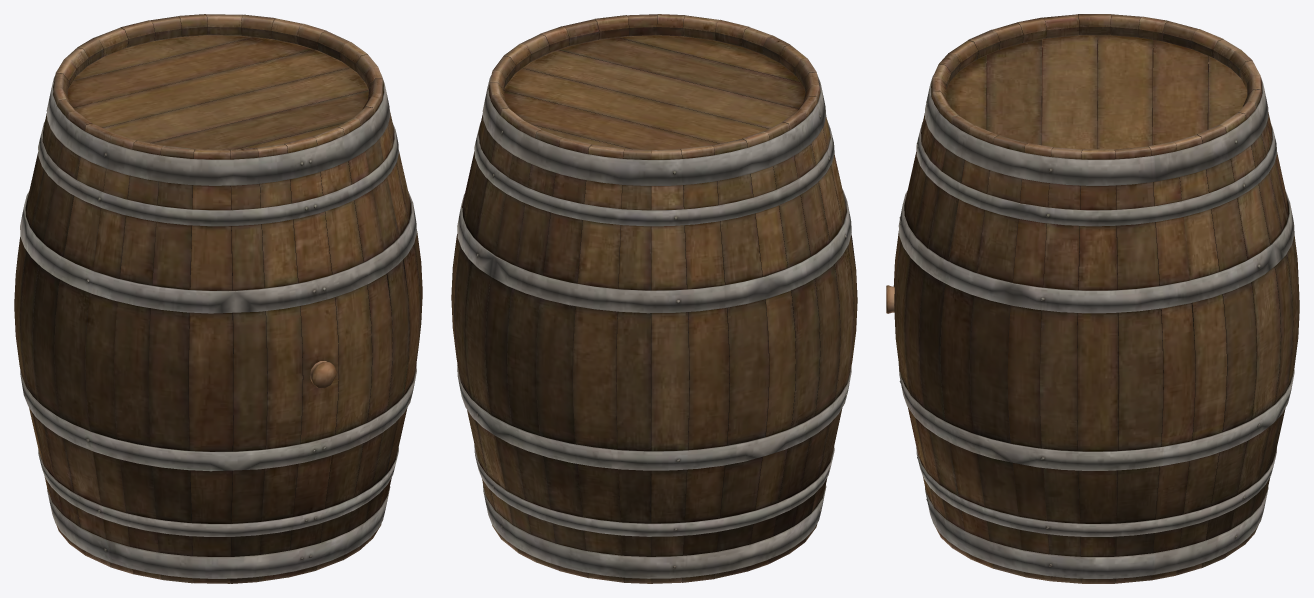
File: barril.glb
3 views of the same model, side by side, from view 1: azimuth 30°, elevation 25°; view 2: azimuth 150°, elevation 25°; view 3: azimuth 270°, elevation 25° (orthographic).
Parts seen in each view (by area): view 1: wine_barrel_01_Lid; view 2: wine_barrel_01_Lid; view 3: wine_barrel_01_Lid.
Boxes of the visible parts, x1,y1,x2,y2 form: wine_barrel_01_Lid: [14, 14, 422, 583]; wine_barrel_01_Lid: [451, 14, 857, 583]; wine_barrel_01_Lid: [886, 14, 1299, 583].
Size of the model in its own units: 0.7419 by 0.8695 by 0.7554.
1 material, 1 textured.
